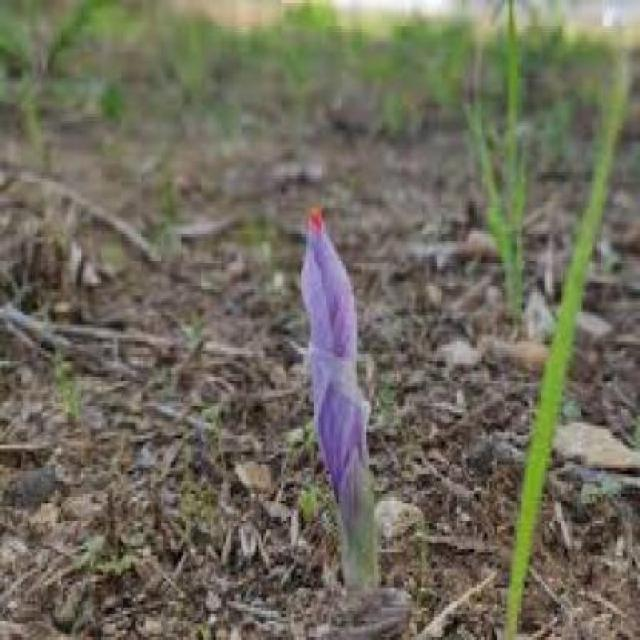Flower: (302, 206, 383, 537)
